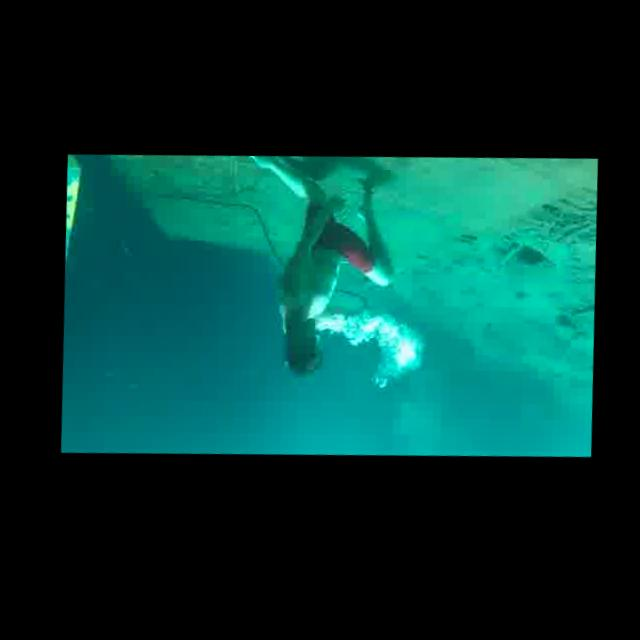human: (229, 153, 404, 397)
